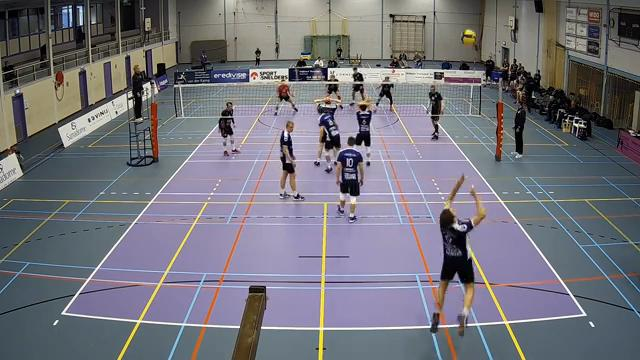battuta: (427, 170, 487, 344)
